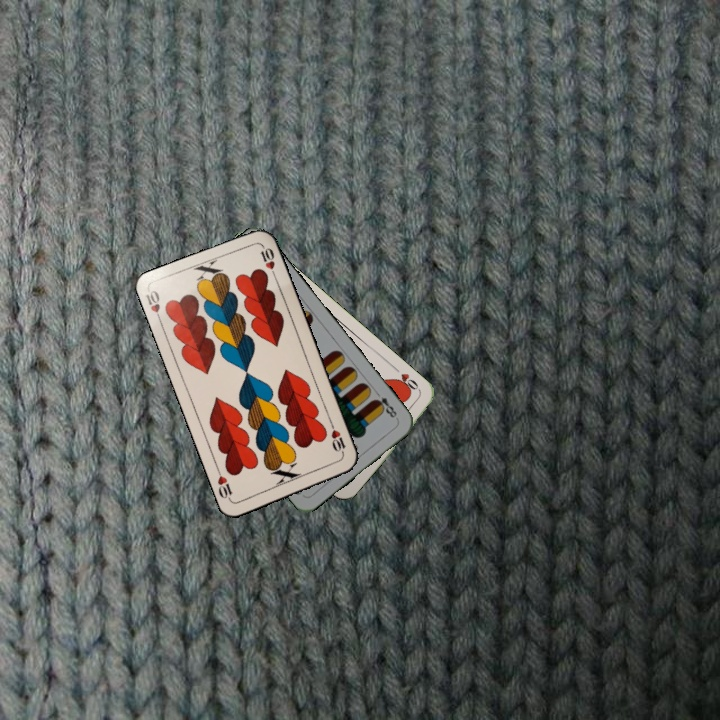E8: (370, 387, 400, 422)
H10: (142, 286, 165, 326), (327, 419, 348, 458)
HO: (390, 363, 423, 396)
